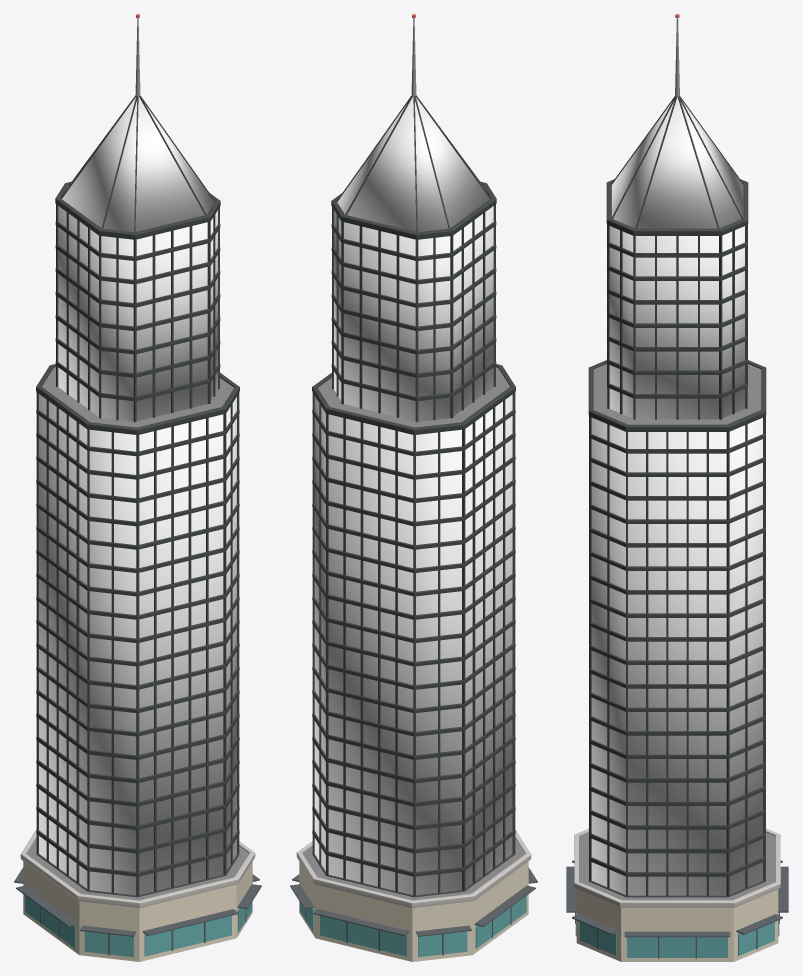
File: tower_chamfer_spire.glb
The picture shows the model from 3 angles, left to right: view 1: azimuth 30°, elevation 25°; view 2: azimuth 150°, elevation 25°; view 3: azimuth 270°, elevation 25°; orthographic projection.
Visible parts, largest first — view 1: curtain, tower trim, mullions, tower props; view 2: curtain, tower trim, mullions, tower props; view 3: curtain, tower trim, mullions, tower props.
Boxes of the visible parts, bbox=[...] form: curtain: bbox=[39, 96, 236, 895]; tower trim: bbox=[20, 181, 255, 961]; mullions: bbox=[36, 95, 246, 955]; tower props: bbox=[14, 14, 261, 957]; curtain: bbox=[314, 96, 512, 895]; tower trim: bbox=[296, 181, 531, 961]; mullions: bbox=[305, 95, 515, 955]; tower props: bbox=[290, 14, 537, 957]; curtain: bbox=[591, 97, 762, 895]; tower trim: bbox=[574, 179, 780, 961]; mullions: bbox=[575, 96, 779, 958]; tower props: bbox=[566, 14, 788, 957].
Bounding box in the file's own units: 30.9 × 139 × 30.9.
